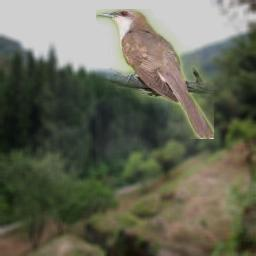Cuckoo: (96, 9, 214, 139)
